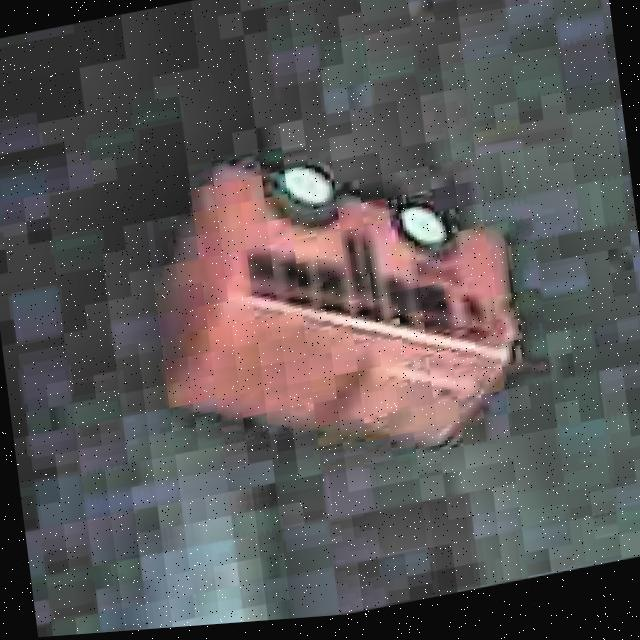bus: (132, 87, 538, 509)
